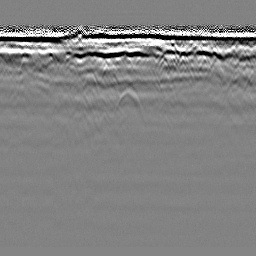cavity: (113, 84, 146, 119)
